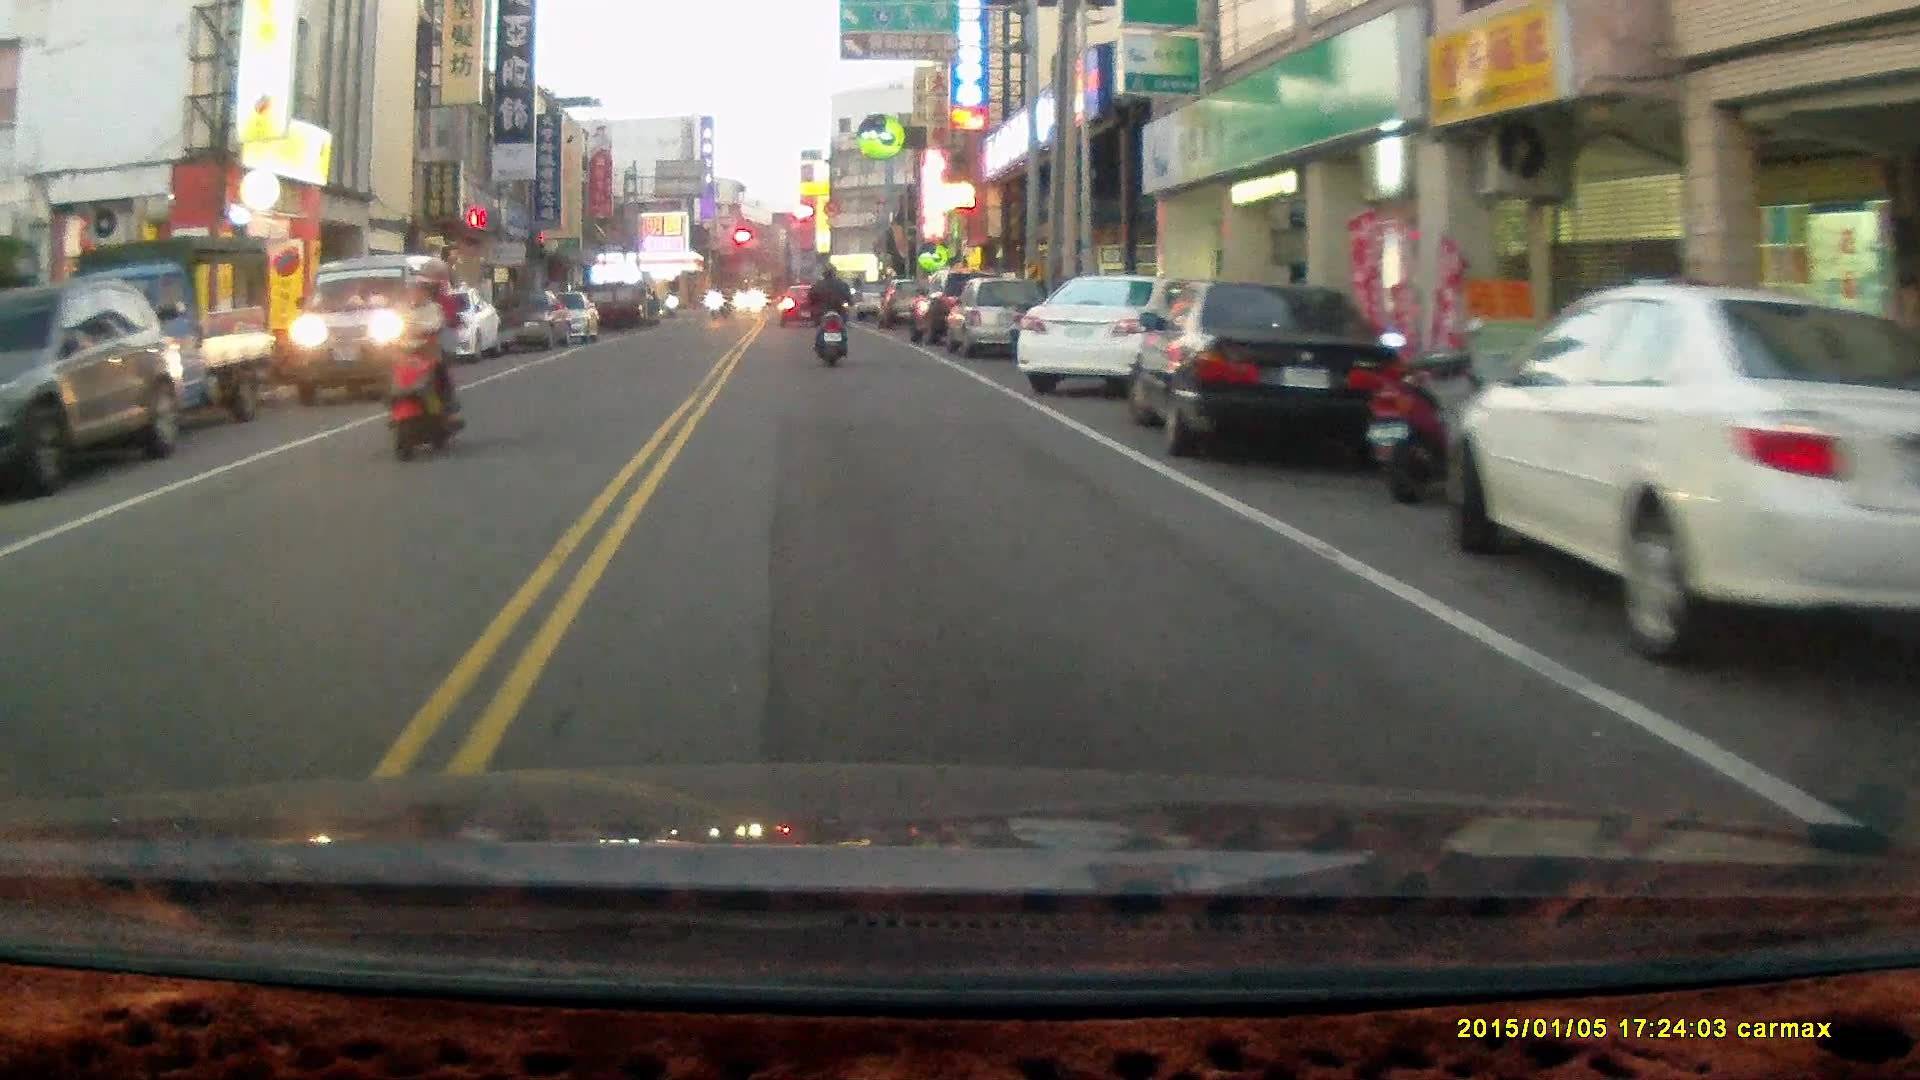rider: (381, 255, 465, 466), (805, 261, 852, 370)
vehicle: (1463, 284, 1920, 667), (1127, 280, 1401, 463), (48, 244, 282, 445), (1, 278, 192, 499), (1014, 274, 1204, 401), (294, 257, 450, 401), (942, 277, 1054, 363)
